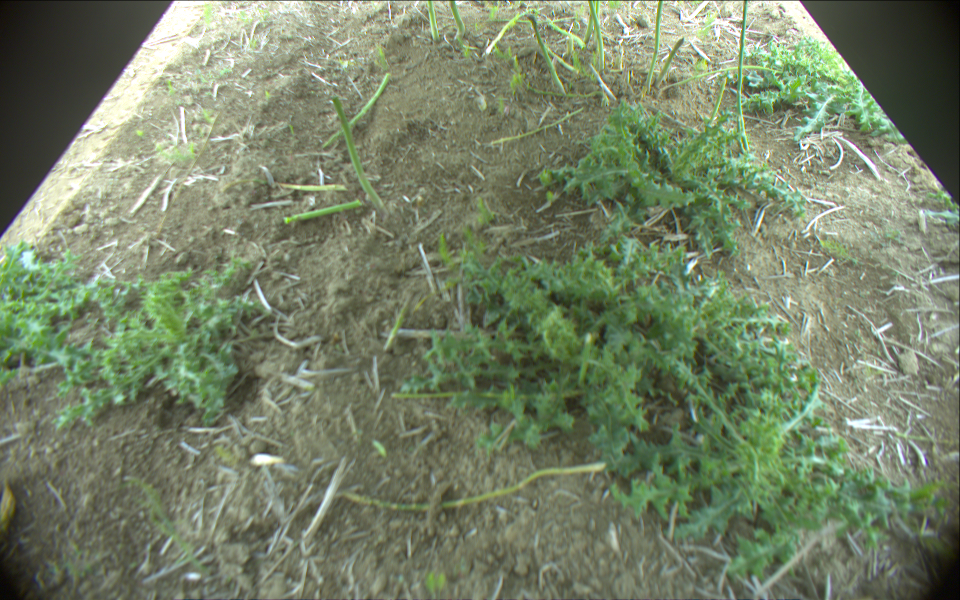aspa: (343, 463, 605, 510), (332, 97, 384, 211), (323, 70, 395, 148), (661, 63, 784, 93), (490, 109, 583, 146), (528, 12, 567, 94), (486, 6, 536, 57), (736, 1, 751, 151), (283, 200, 363, 225), (646, 1, 663, 90), (657, 37, 685, 87), (544, 47, 583, 76), (589, 1, 604, 72), (544, 21, 584, 47), (708, 76, 727, 128), (275, 180, 347, 192), (449, 1, 466, 41), (427, 1, 439, 39), (584, 1, 594, 42), (596, 1, 604, 50)
